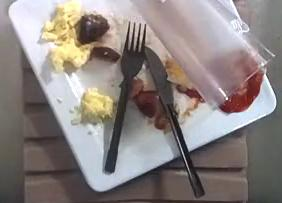bacon: (129, 79, 168, 130)
scrambled_eggs: (41, 0, 91, 70), (81, 88, 113, 123)
